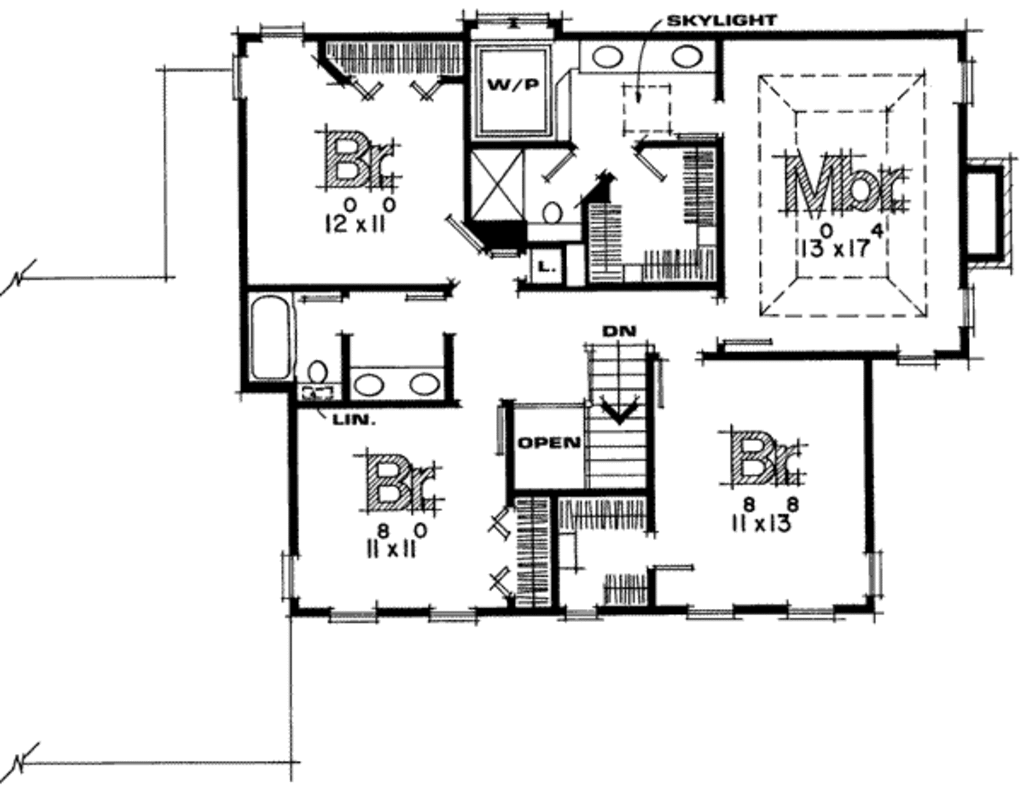large_sink: (528, 198, 587, 246), (300, 356, 348, 404)
small_sink: (579, 36, 718, 76), (347, 365, 447, 399)
stairs: (578, 321, 656, 486)
tub: (248, 284, 298, 379)
window: (778, 599, 844, 626), (426, 601, 480, 629), (276, 544, 302, 602), (956, 277, 982, 335), (324, 600, 381, 626), (225, 54, 252, 105), (253, 21, 310, 45), (862, 544, 886, 597), (889, 349, 940, 372), (687, 603, 736, 624), (959, 54, 978, 108), (559, 605, 603, 623)
